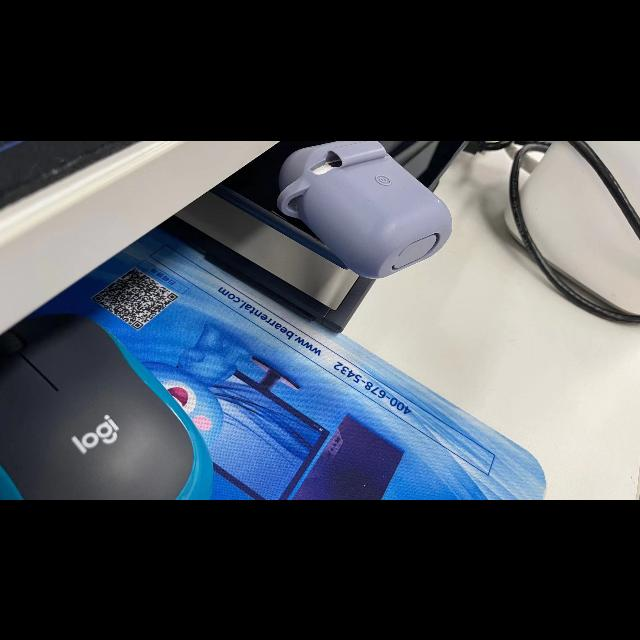airpods: (276, 140, 452, 279)
